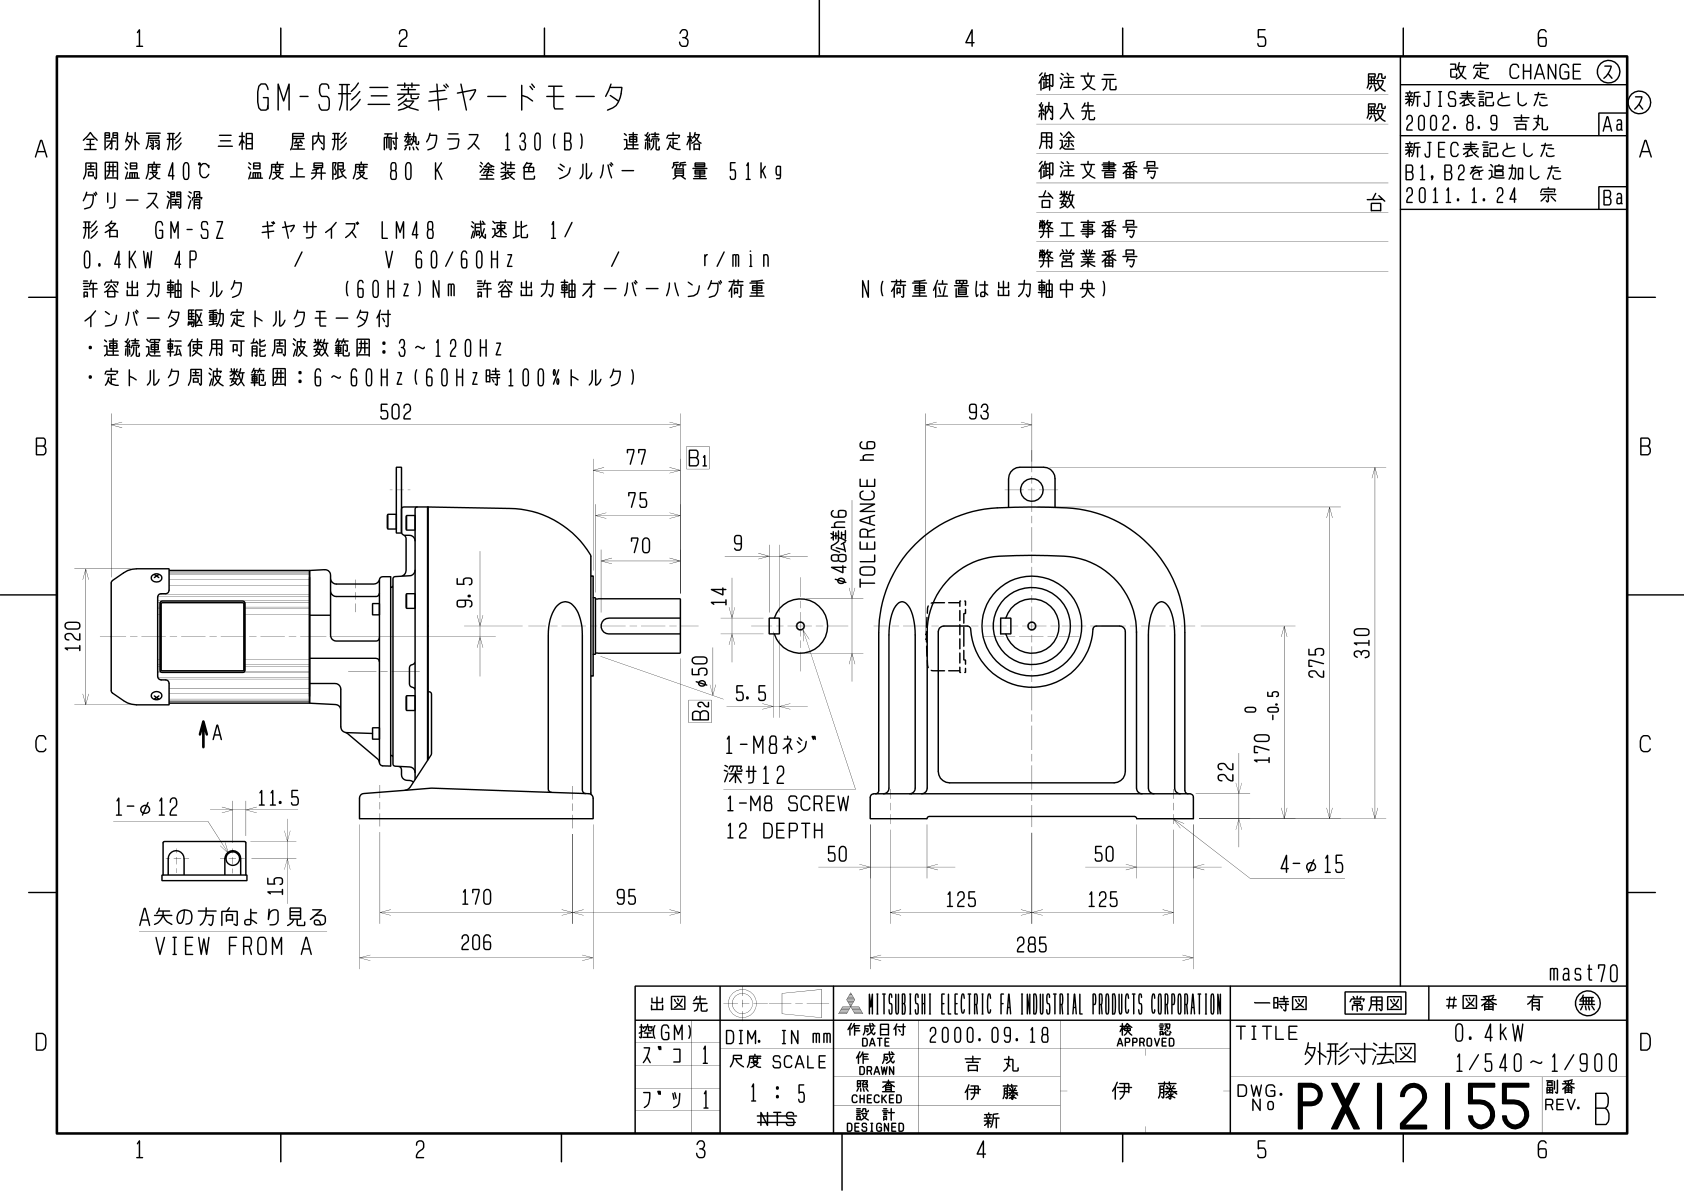GM_S_インバタ屋内＿三相_脚: (12, 5, 1669, 1191)
